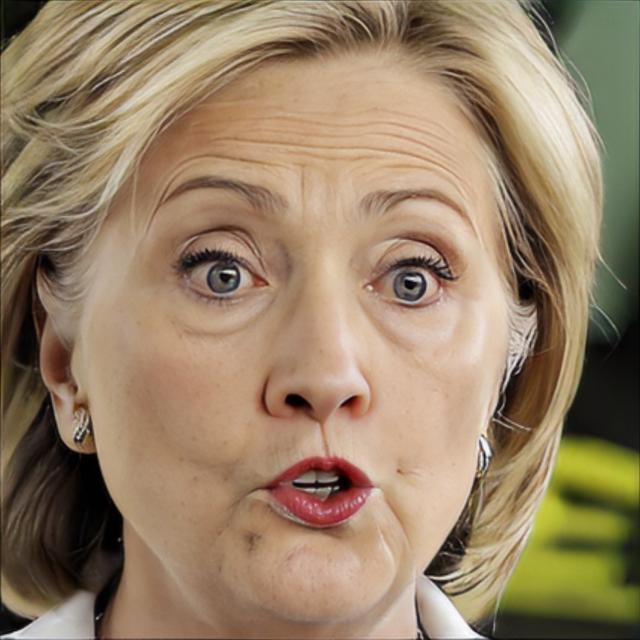surprise: (76, 36, 512, 625)
